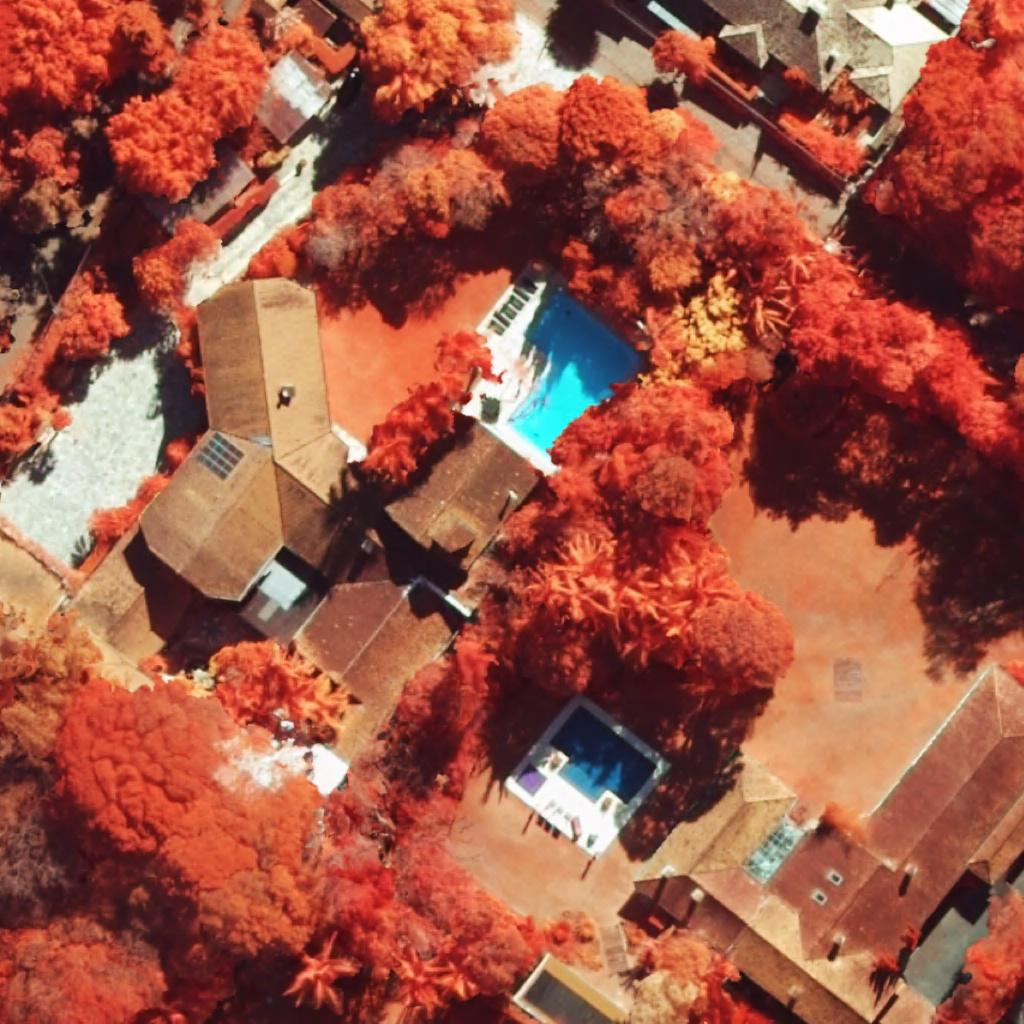pool: (507, 291, 645, 455), (549, 705, 657, 804)
